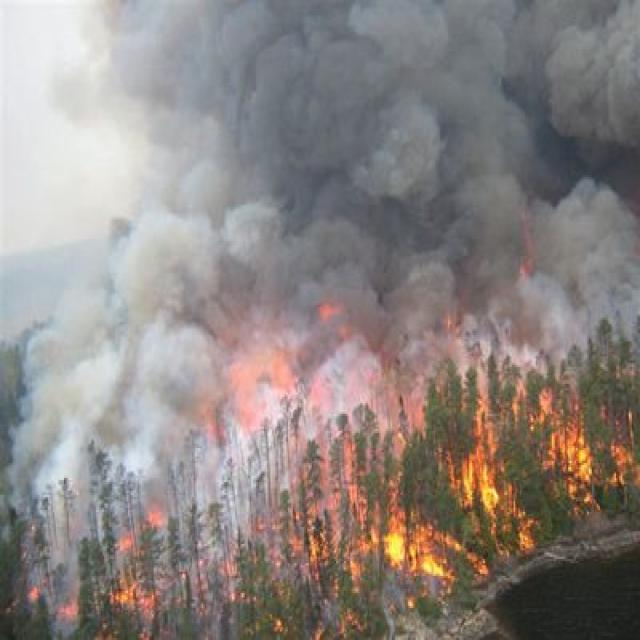Fire: (25, 401, 640, 640)
Smoke: (0, 0, 640, 487)
